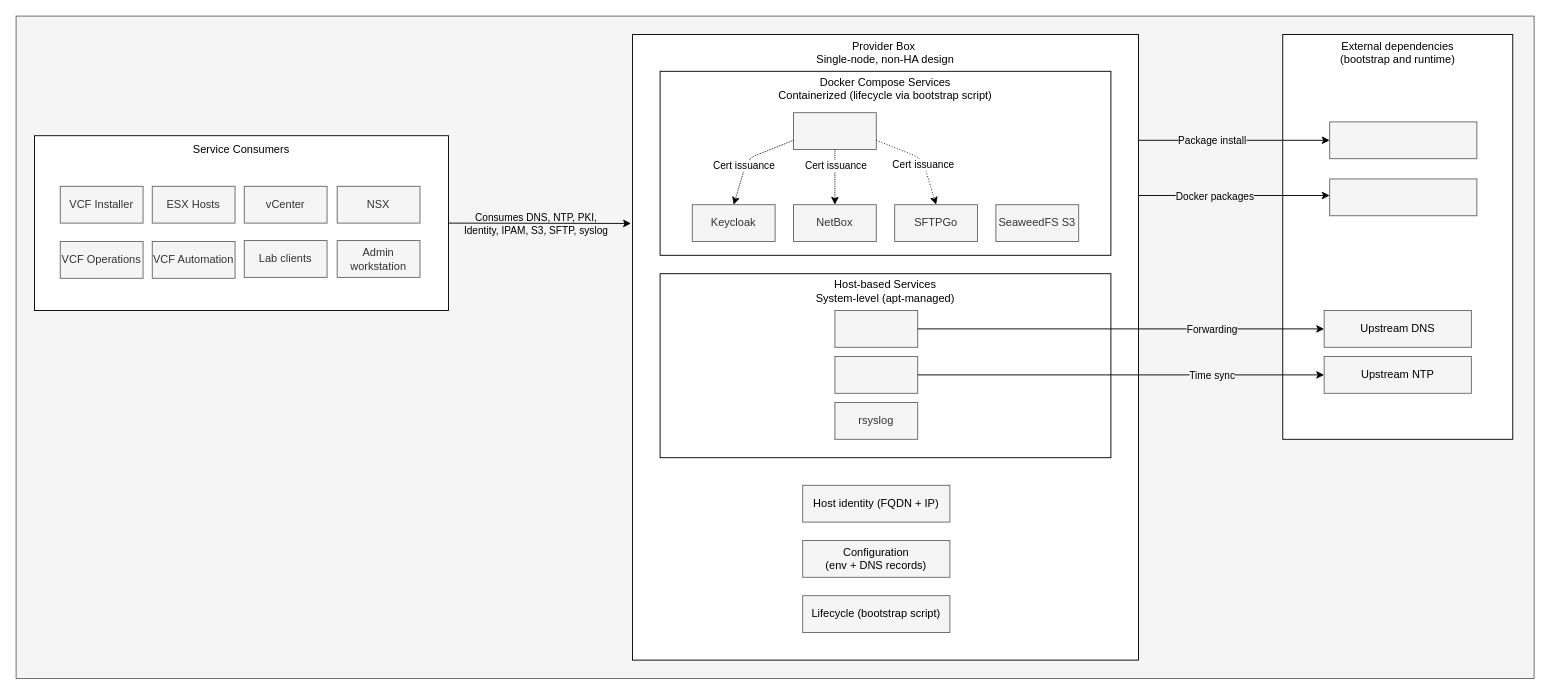
Some shapes in this 1550 by 695 pixel diagram are drawn without their labels. The centre of each missing label's shape, as x and y in pixels:
"Chrony" belongs at point 876,374.
"Docker repositories" belongs at point 1403,197.
"OS package repositories" belongs at point 1403,140.
"step-ca" belongs at point 834,131.
"Unbound" belongs at point 876,328.
